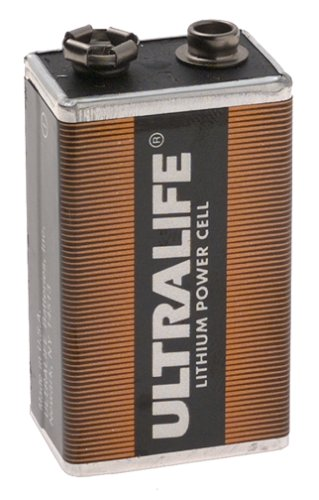Nonrec_Other: (6, 13, 309, 475)
